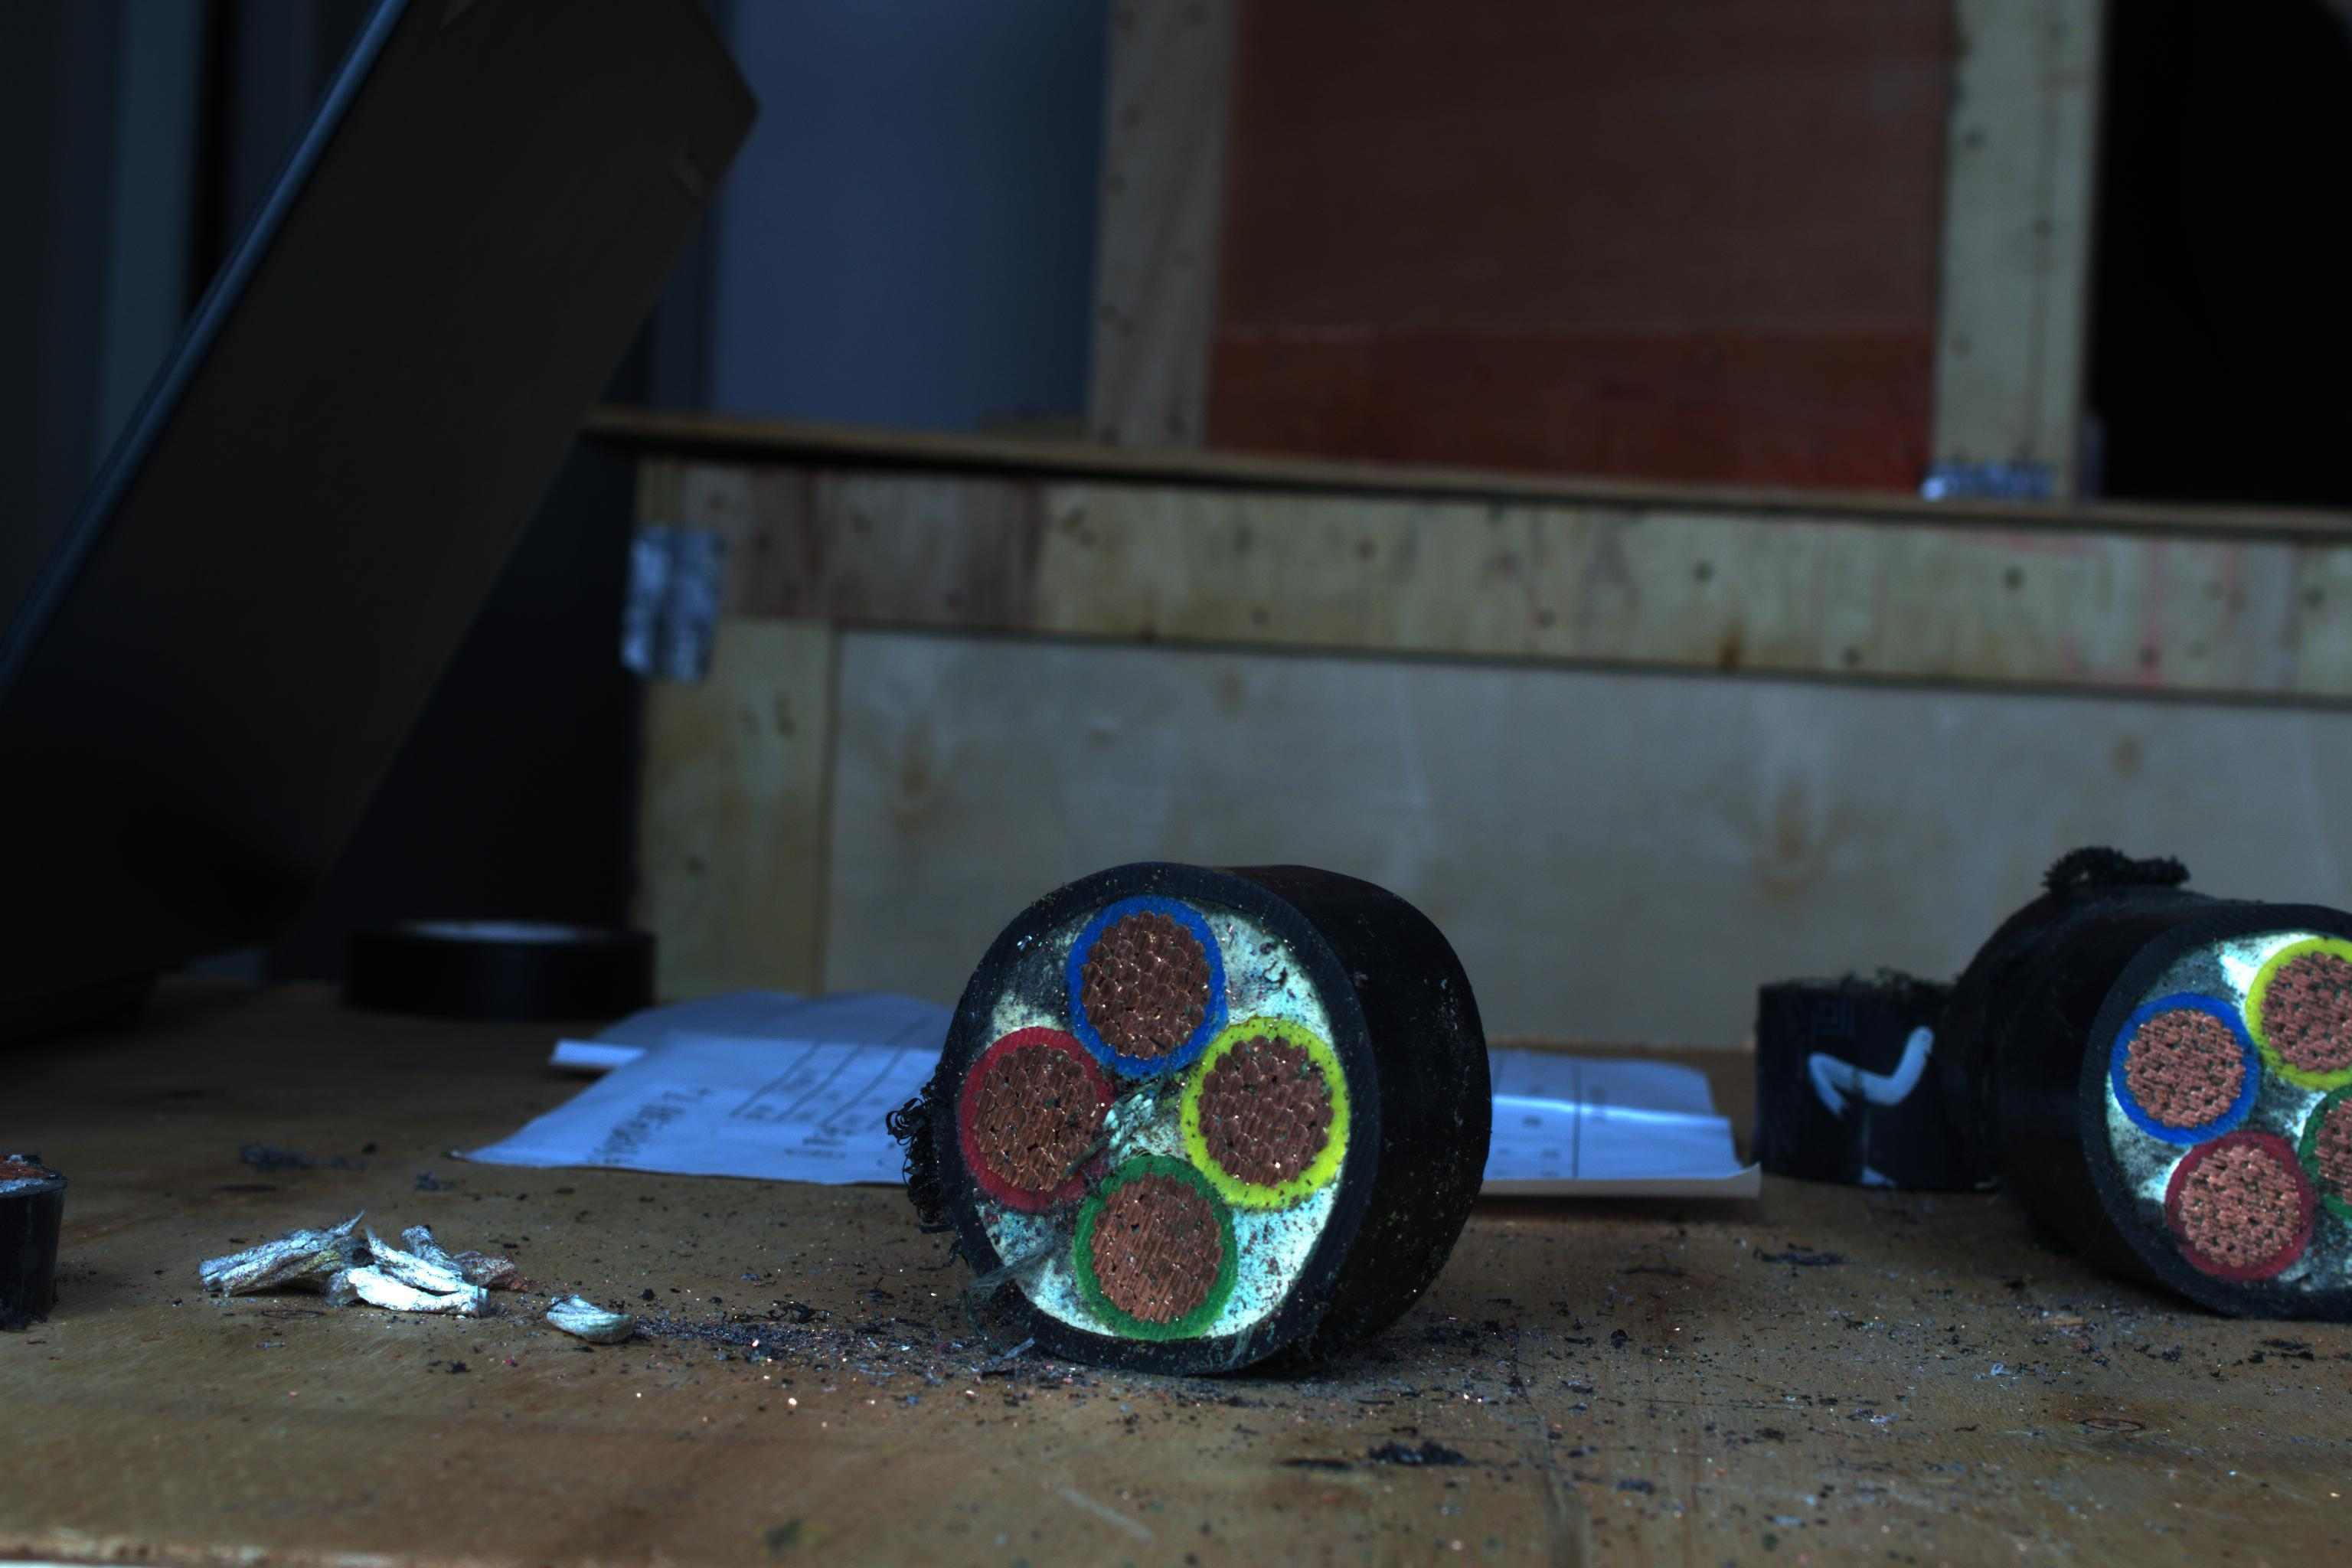YJV_0.6_1kV_4x185: (934, 868, 1354, 1389)
